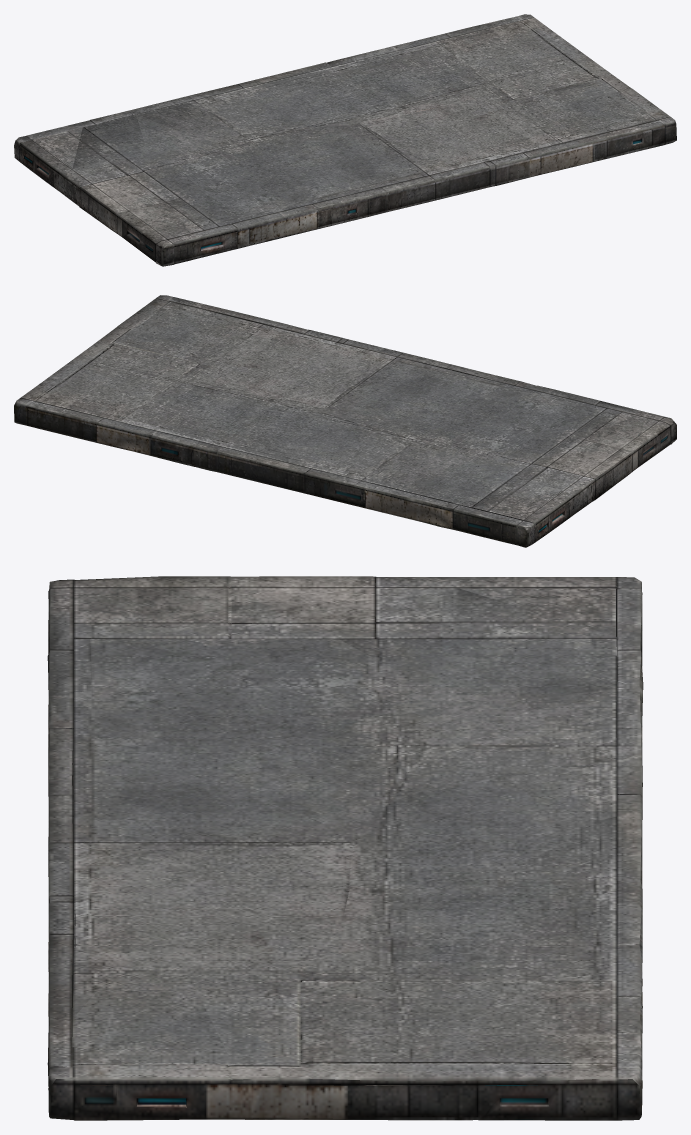
Rendered from kairox-sidewalk-pavement.glb.
3 renders of one model, top to bottom at view 1: azimuth 30°, elevation 25°; view 2: azimuth 150°, elevation 25°; view 3: azimuth 270°, elevation 25°, orthographic. The views are drawn at different scales.
Visible parts, largest first — view 1: kairox-sidewalk-pavement; view 2: kairox-sidewalk-pavement; view 3: kairox-sidewalk-pavement.
Part boxes in pixels (x1,y1,x2,y2): kairox-sidewalk-pavement: [14, 14, 676, 266]; kairox-sidewalk-pavement: [14, 295, 676, 547]; kairox-sidewalk-pavement: [47, 576, 643, 1120].
Size of the model in its own units: 4 by 0.16 by 2.
1 material, 1 textured.
